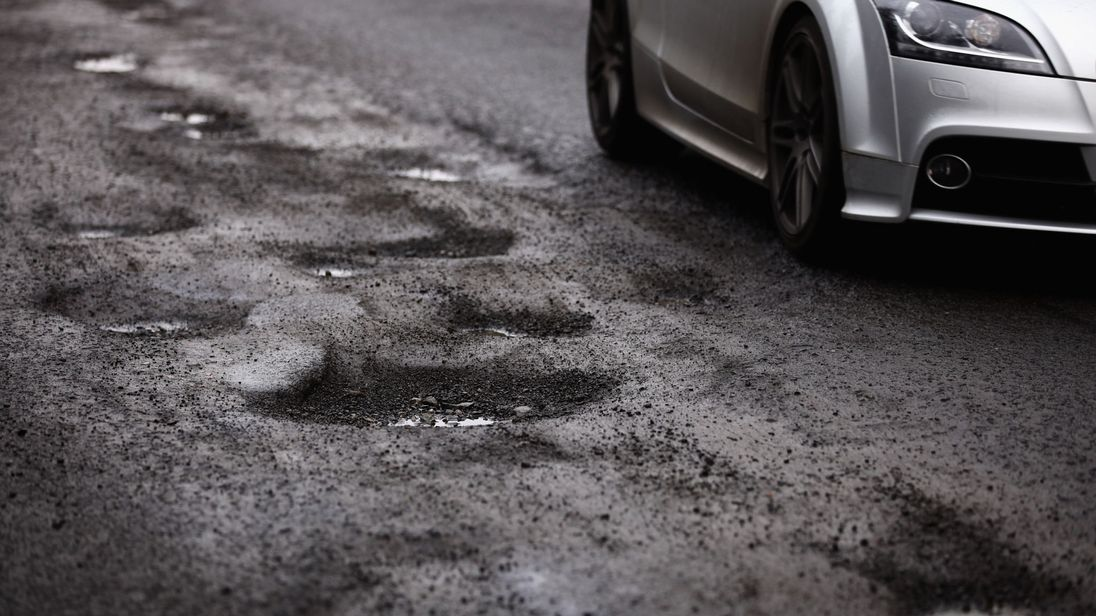pothole: (246, 339, 578, 448), (37, 266, 235, 364), (282, 211, 562, 277), (629, 258, 748, 335), (129, 98, 273, 158), (61, 41, 158, 81)
